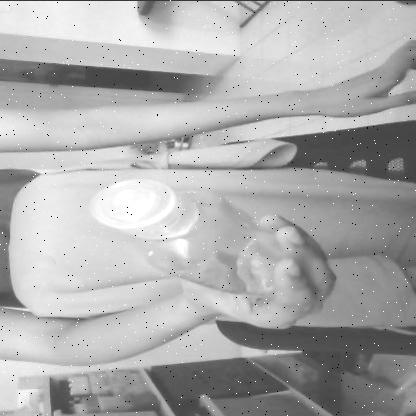Plastic Bottle: (86, 173, 300, 297)
